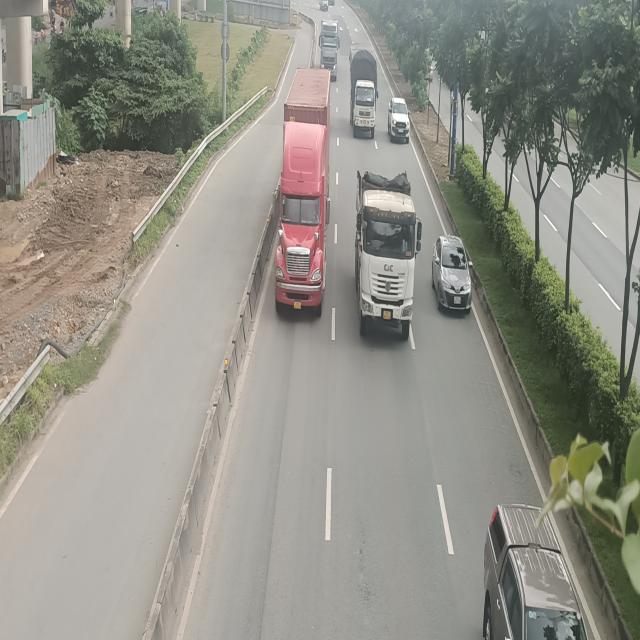car: (480, 499, 590, 640), (432, 231, 473, 315), (387, 97, 411, 144)
container: (275, 66, 332, 321), (355, 170, 422, 342), (320, 20, 338, 80)
truck: (351, 52, 377, 136)
